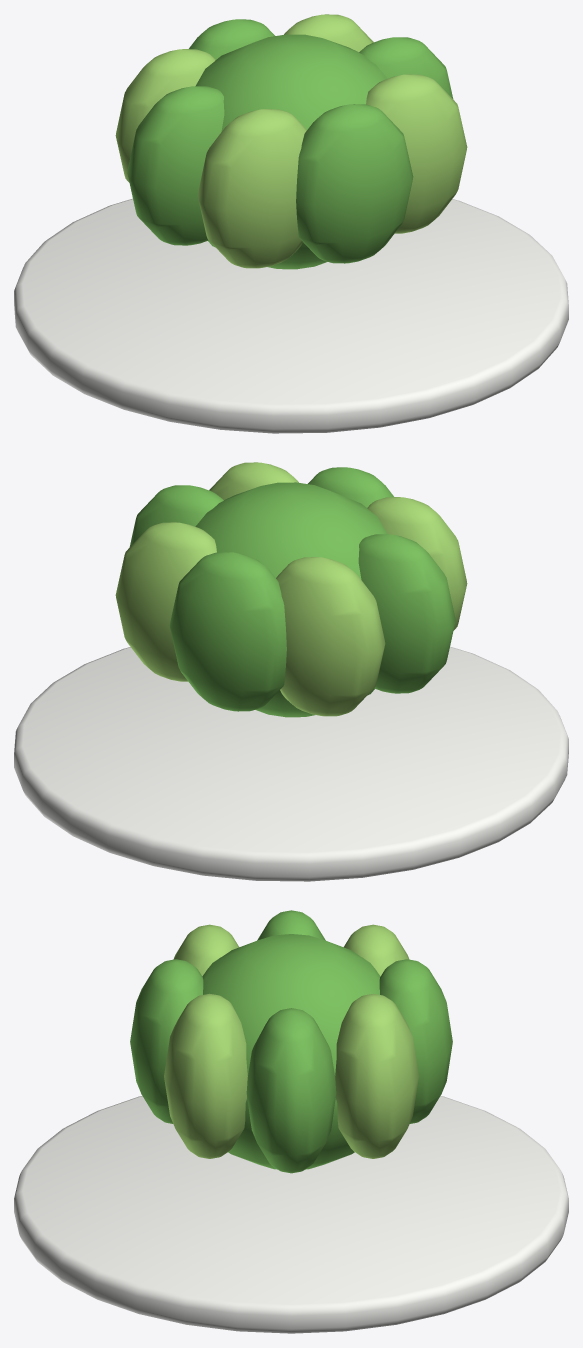
Rendered from IconVegetable.fbx.
The picture shows the model from 3 angles, top to bottom: view 1: azimuth 30°, elevation 25°; view 2: azimuth 150°, elevation 25°; view 3: azimuth 270°, elevation 25°; orthographic projection.
Visible parts, largest first — view 1: IconDisc, Leaf_06.001, Leaf_05.001, CabbageCore.001, Leaf_04.001, Leaf_07.001, Leaf_03.001, Leaf_00.001, Leaf_02.001, Leaf_01.001; view 2: IconDisc, Leaf_02.001, Leaf_03.001, CabbageCore.001, Leaf_04.001, Leaf_01.001, Leaf_05.001, Leaf_00.001, Leaf_06.001, Leaf_07.001; view 3: IconDisc, CabbageCore.001, Leaf_00.001, Leaf_01.001, Leaf_07.001, Leaf_02.001, Leaf_06.001, Leaf_03.001, Leaf_05.001, Leaf_04.001.
Part boxes in pixels (<box>): IconDisc: <box>14,198,568,433</box>; Leaf_06.001: <box>296,104,413,263</box>; Leaf_05.001: <box>197,109,306,268</box>; CabbageCore.001: <box>195,34,387,269</box>; Leaf_04.001: <box>127,86,224,245</box>; Leaf_07.001: <box>366,74,467,233</box>; Leaf_03.001: <box>115,49,215,182</box>; Leaf_00.001: <box>359,37,453,98</box>; Leaf_02.001: <box>189,19,274,59</box>; Leaf_01.001: <box>284,14,373,51</box>; IconDisc: <box>14,646,568,881</box>; Leaf_02.001: <box>169,552,286,711</box>; Leaf_03.001: <box>276,557,385,716</box>; CabbageCore.001: <box>195,482,387,717</box>; Leaf_04.001: <box>358,534,455,693</box>; Leaf_01.001: <box>115,522,216,681</box>; Leaf_05.001: <box>367,497,467,630</box>; Leaf_00.001: <box>129,485,223,546</box>; Leaf_06.001: <box>308,467,393,507</box>; Leaf_07.001: <box>209,462,298,499</box>; IconDisc: <box>14,1096,568,1333</box>; CabbageCore.001: <box>202,934,380,1169</box>; Leaf_00.001: <box>246,1008,336,1173</box>; Leaf_01.001: <box>335,993,418,1158</box>; Leaf_07.001: <box>164,993,247,1158</box>; Leaf_02.001: <box>379,959,452,1123</box>; Leaf_06.001: <box>130,959,203,1123</box>; Leaf_03.001: <box>344,924,409,976</box>; Leaf_05.001: <box>173,924,238,976</box>; Leaf_04.001: <box>257,910,325,940</box>.
Size of the model in its own units: 0.96 by 0.5211 by 0.96.
